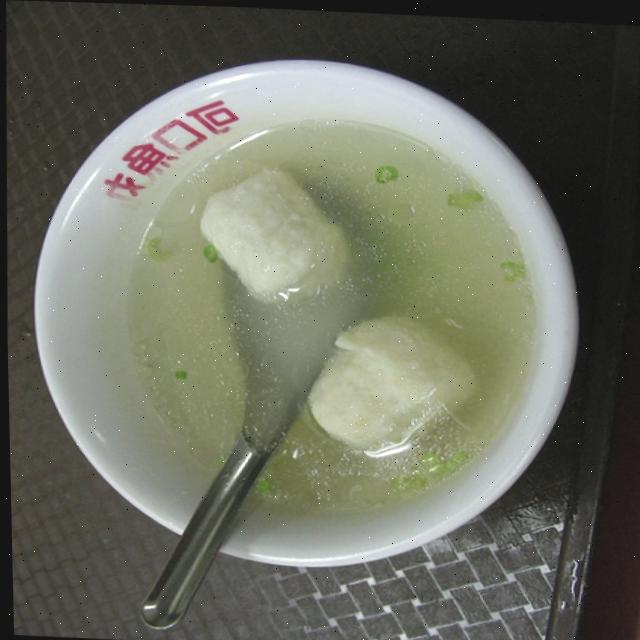熟制海鲜: (31, 55, 594, 577)
